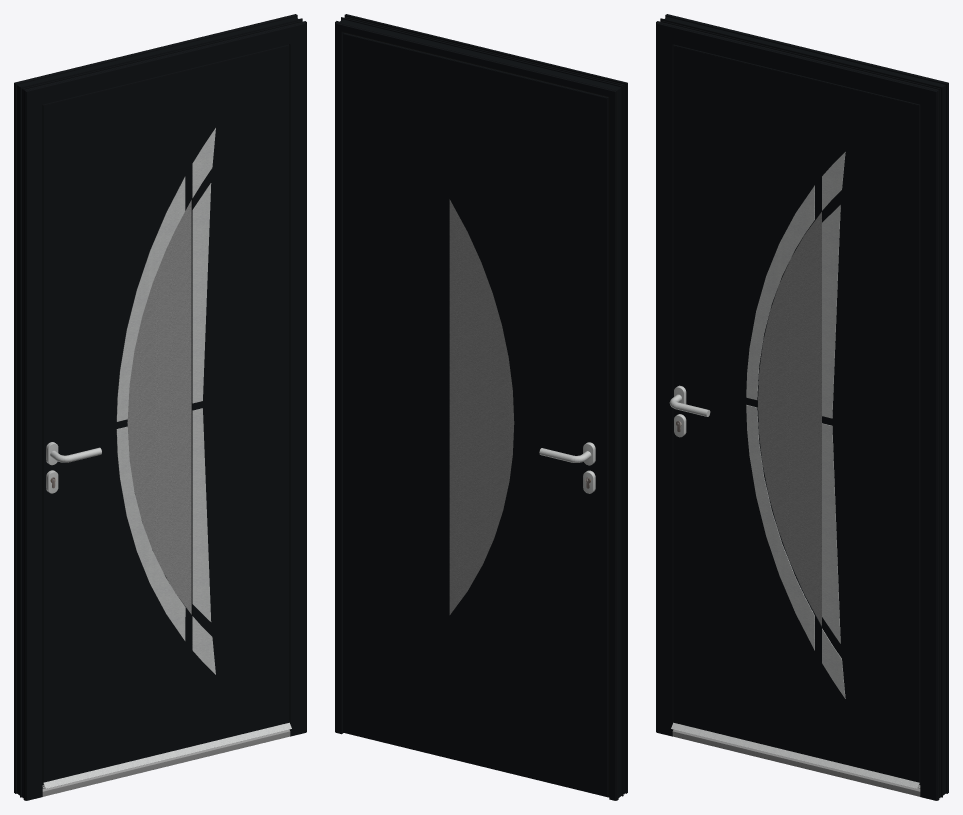
The picture shows the model from 3 angles, left to right: view 1: azimuth 30°, elevation 25°; view 2: azimuth 150°, elevation 25°; view 3: azimuth 330°, elevation 25°; orthographic projection.
Parts seen in each view (by area): view 1: bloco_69, aroFixo, Plane001, alunox_43, aroMovel, rodapé, escovas, puxador001; view 2: bloco_69, aroFixo, Plane002, aroMovel, puxador; view 3: bloco_69, aroFixo, Plane001, alunox_43, aroMovel, rodapé, escovas, puxador001.
Part boxes in pixels (x1,y1,x2,y2): bloco_69: (44,46,289,782); aroFixo: (14,14,306,800); Plane001: (127,200,191,614); alunox_43: (116,128,215,674); aroMovel: (42,44,289,784); rodapé: (42,729,290,796); escovas: (42,722,291,788); puxador001: (46,442,101,493); bloco_69: (343,34,607,796); aroFixo: (335,14,627,800); Plane002: (449,199,514,614); aroMovel: (343,32,609,796); puxador: (539,442,595,493); bloco_69: (673,46,919,782); aroFixo: (656,14,948,800); Plane001: (758,212,821,625); alunox_43: (746,152,845,698); aroMovel: (673,44,920,784); rodapé: (672,729,920,796); escovas: (671,722,920,788); puxador001: (669,385,710,437).
Bounding box in the file's own units: 900 × 2165 × 209.
7 materials, 3 textured.
